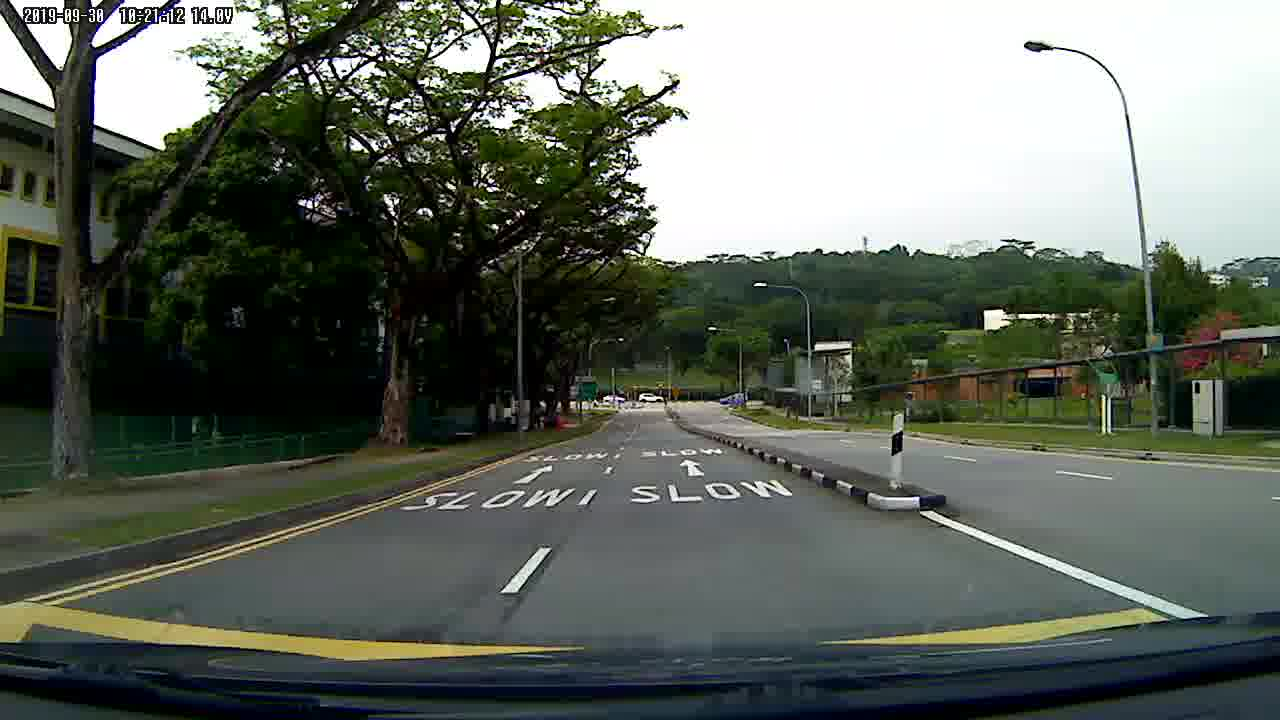car: (720, 392, 751, 404), (638, 391, 664, 405), (603, 391, 627, 403)
